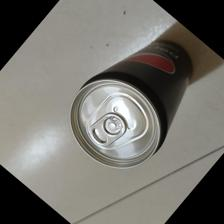Pepsi: (70, 38, 196, 170)
